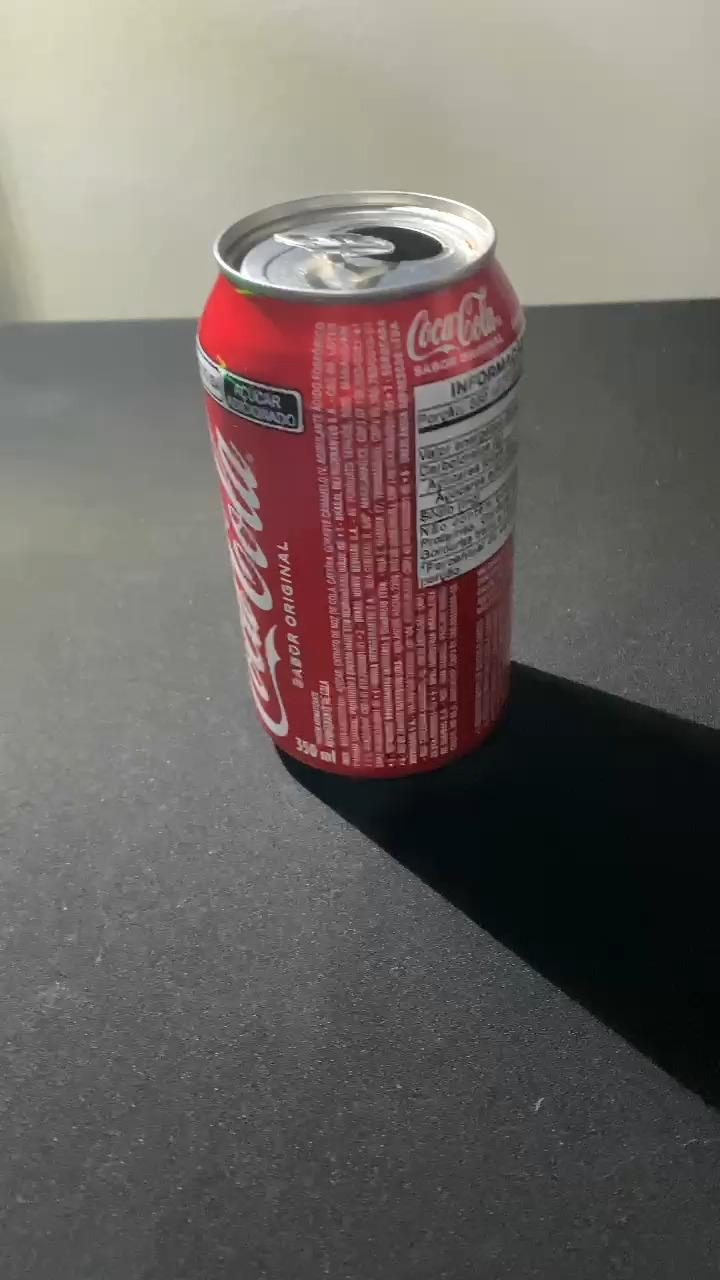coke: (197, 194, 523, 765)
